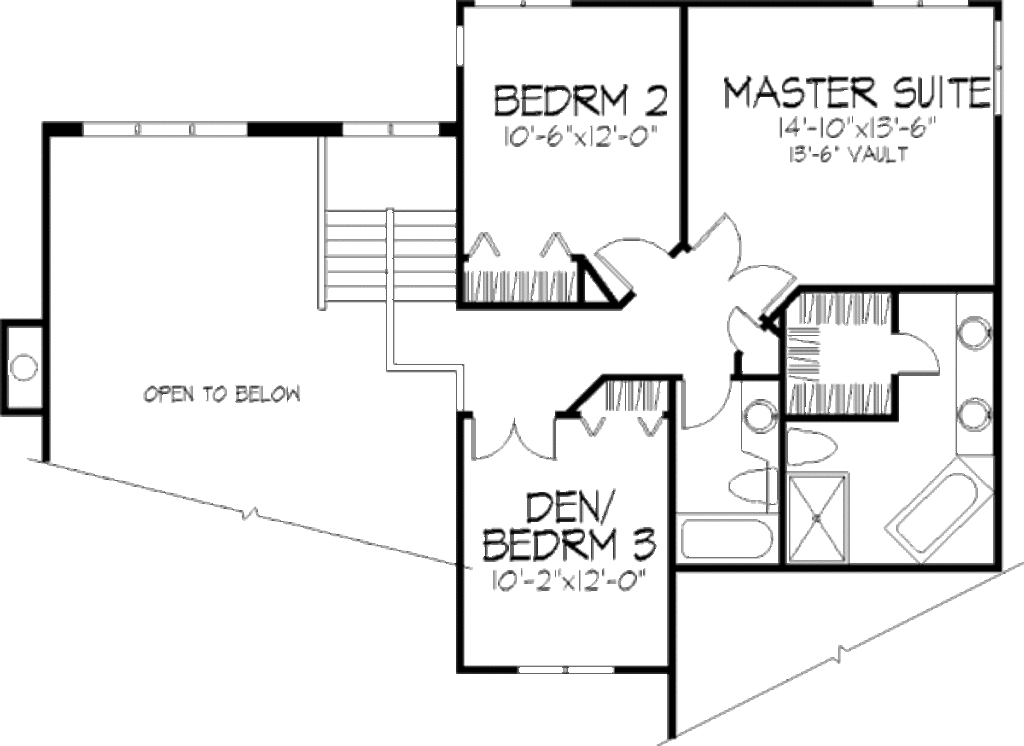door: (688, 210, 796, 311), (592, 232, 680, 297), (465, 415, 558, 462), (672, 371, 732, 429), (713, 299, 769, 352), (889, 328, 938, 386)
large_sink: (788, 424, 841, 473), (724, 462, 777, 509)
small_sink: (947, 291, 990, 455), (740, 390, 779, 440)
stairs: (328, 184, 459, 361)
tub: (886, 455, 992, 560), (674, 518, 775, 563)
window: (75, 118, 253, 140), (986, 19, 1002, 113), (341, 120, 433, 136), (567, 662, 619, 677), (522, 663, 570, 677)
